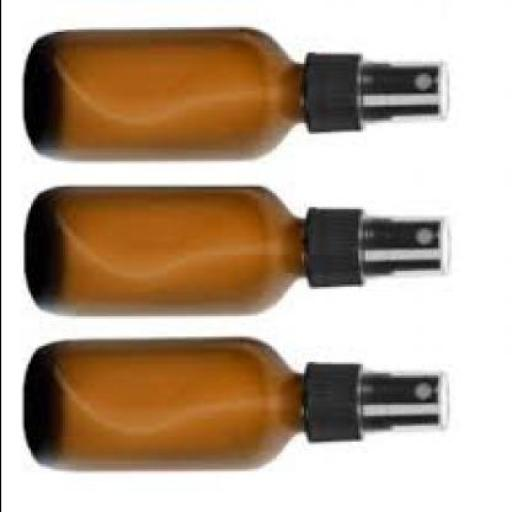glass: (22, 28, 310, 159), (20, 337, 305, 469), (22, 186, 305, 314)
plastic: (306, 48, 450, 132), (308, 362, 450, 442), (306, 206, 450, 284)
